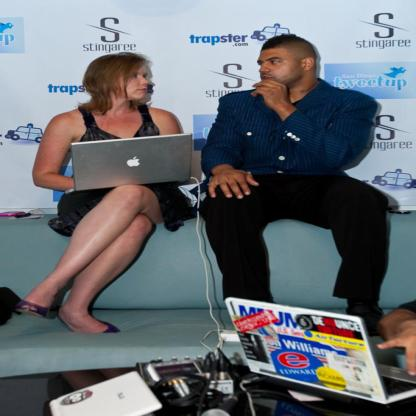board: (226, 298, 415, 406), (64, 132, 200, 194)
